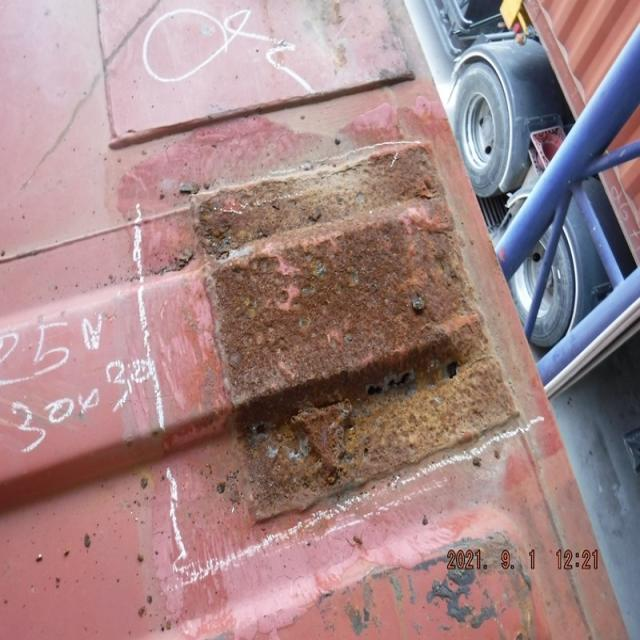rust: (183, 138, 526, 537)
